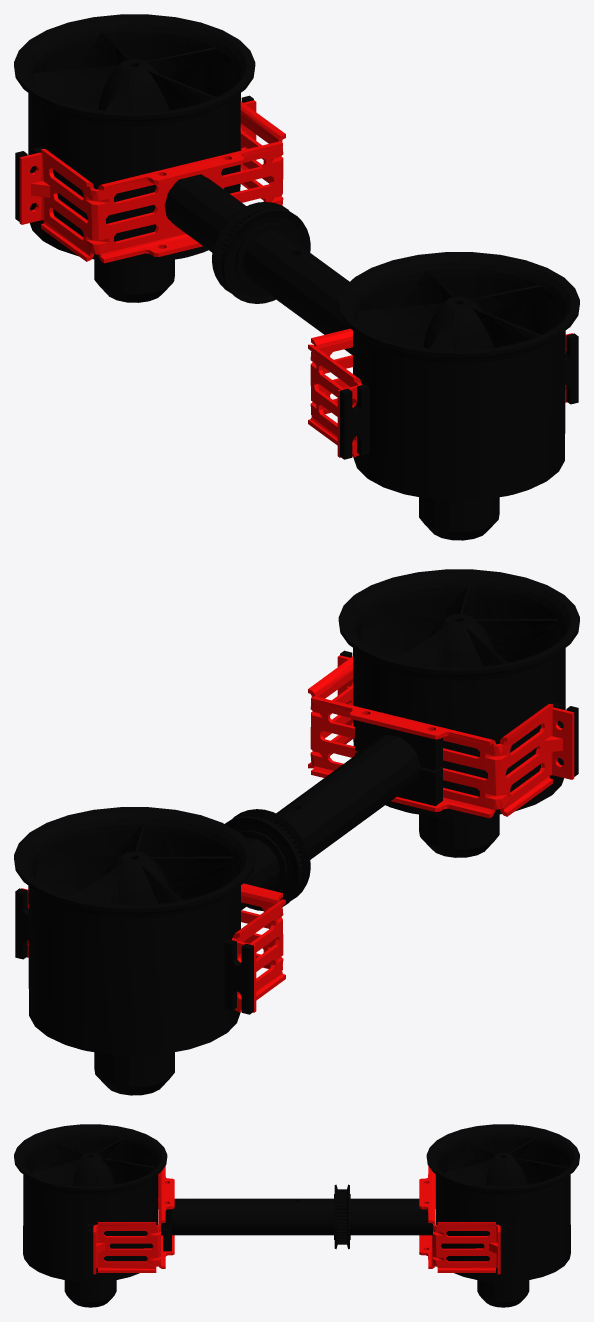
File: ducted_fan_gimbal_pitch.dae
3 renders of one model, top to bottom at view 1: azimuth 30°, elevation 25°; view 2: azimuth 150°, elevation 25°; view 3: azimuth 270°, elevation 25°, orthographic. The views are drawn at different scales.
Visible parts, largest first — view 1: Black_Metal, Red, Black_Nonmetal; view 2: Black_Metal, Red, Black_Nonmetal; view 3: Black_Metal, Black_Nonmetal, Red.
Boxes of the visible parts, left/top/right/bottom form: Black_Metal: left=14, top=14, right=579, bottom=540; Red: left=19, top=100, right=572, bottom=457; Black_Nonmetal: left=164, top=174, right=352, bottom=354; Black_Metal: left=14, top=569, right=579, bottom=1095; Red: left=21, top=655, right=574, bottom=1012; Black_Nonmetal: left=241, top=735, right=422, bottom=909; Black_Metal: left=14, top=1124, right=579, bottom=1307; Black_Nonmetal: left=161, top=1198, right=432, bottom=1235; Red: left=93, top=1166, right=500, bottom=1274.
Size of the model in its own units: 0.093 by 0.3059 by 0.0886.
